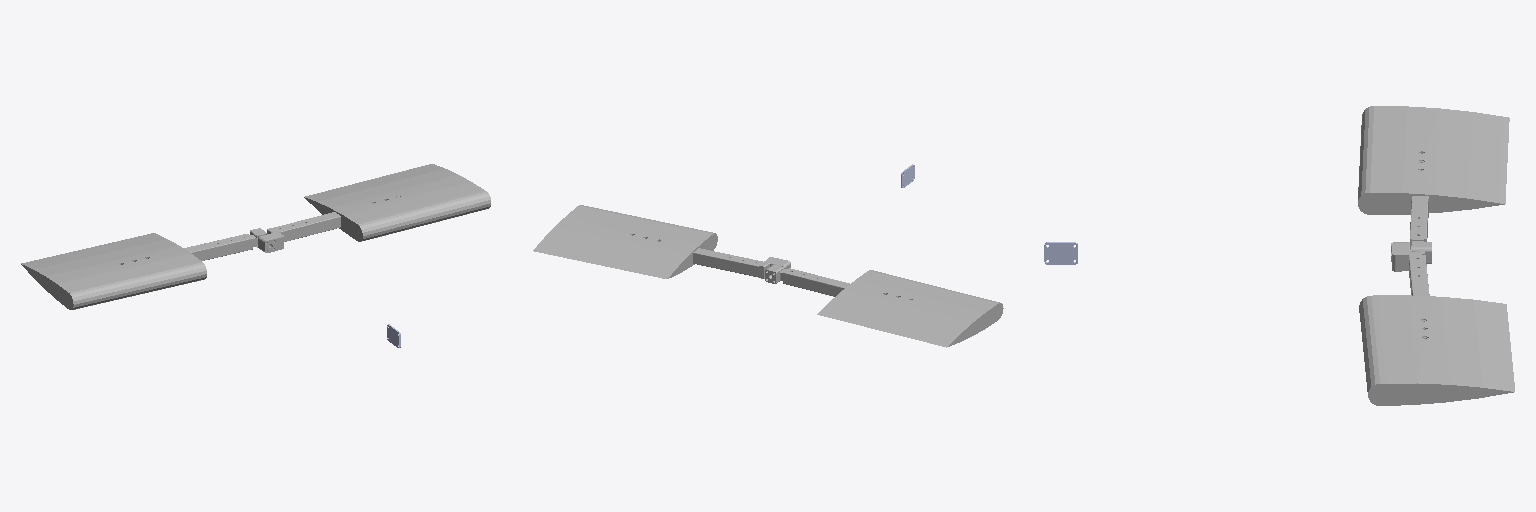
The robot description file, URDF, robot "spm-asm-v6-2":
<?xml version="1.0" encoding="utf-8"?>
<!-- This URDF was automatically created by SolidWorks to URDF Exporter! Originally created by [author] ([email redacted]) 
     Commit Version: 1.6.0-4-g7f85cfe  Build Version: 1.6.7995.38578
     For more information, please see http://wiki.ros.org/sw_urdf_exporter -->
<robot
  name="spm-asm-v6-2">
  <link
    name="body">
    <inertial>
      <origin
        xyz="-0.000447494654153479 0.331321949812791 0.000113603452558181"
        rpy="0 0 0" />
      <mass
        value="1.52483078220958" />
      <inertia
        ixx="0.00829246519516177"
        ixy="-1.02325386659498E-05"
        ixz="-1.46763239266088E-05"
        iyy="0.00411784045329585"
        iyz="1.16891867374721E-05"
        izz="0.00454099279717948" />
    </inertial>
    <visual>
      <origin
        xyz="0 0 0"
        rpy="0 0 0" />
      <geometry>
        <mesh
          filename="../meshes/body.obj" />
      </geometry>
      <material
        name="">
        <color
          rgba="0.752941176470588 0.752941176470588 0.752941176470588 1" />
      </material>
    </visual>
    <collision>
      <origin
        xyz="0 0 0"
        rpy="0 0 0" />
      <geometry>
        <mesh
          filename="../meshes/body.obj" />
      </geometry>
    </collision>
  </link>
  <link
    name="egg">
    <inertial>
      <origin
        xyz="-0.000704379747724138 0.000189398528617443 -0.000359342631638893"
        rpy="0 0 0" />
      <mass
        value="0.547069589420612" />
      <inertia
        ixx="0.00058970882866789"
        ixy="-3.36983548502265E-11"
        ixz="0.000147288742365131"
        iyy="0.00078676358354829"
        iyz="2.54054054923086E-11"
        izz="0.000367447759294177" />
    </inertial>
    <visual>
      <origin
        xyz="0 0 0"
        rpy="0 0 0" />
      <geometry>
        <mesh
          filename="../meshes/egg.obj" />
      </geometry>
      <material
        name="">
        <color
          rgba="0.752941176470588 0.752941176470588 0.752941176470588 1" />
      </material>
    </visual>
    <collision>
      <origin
        xyz="0 0 0"
        rpy="0 0 0" />
      <geometry>
        <mesh
          filename="../meshes/egg.obj" />
      </geometry>
    </collision>
  </link>
  <joint
    name="egg"
    type="continuous">
    <origin
      xyz="0 0.329999999999998 0"
      rpy="-0.00420723995770047 0.477191572872437 -1.5727286634525" />
    <parent
      link="body" />
    <child
      link="egg" />
    <axis
      xyz="0 1 0" />
    <limit
      lower="-1.309"
      upper="1.309"
      effort="0.02"
      velocity="3.927" />
  </joint>
  <link
    name="left">
    <inertial>
      <origin
        xyz="0.141367161453231 0.00171132316628048 -0.014590850978999"
        rpy="0 0 0" />
      <mass
        value="0.200066504276197" />
      <inertia
        ixx="0.000134612037974116"
        ixy="-2.5790330046864E-06"
        ixz="4.07586793565832E-05"
        iyy="0.000409569178120027"
        iyz="6.01341515016151E-08"
        izz="0.000525220739609295" />
    </inertial>
    <visual>
      <origin
        xyz="0 0 0"
        rpy="0 -0.075 0" />
      <geometry>
        <mesh
          filename="../meshes/left.obj" />
      </geometry>
      <material
        name="">
        <color
          rgba="0.752941176470588 0.752941176470588 0.752941176470588 1" />
      </material>
    </visual>
    <collision>
      <origin
        xyz="0 0 0"
        rpy="0 0 0" />
      <geometry>
        <mesh
          filename="../meshes/left.obj" />
      </geometry>
    </collision>
  </link>
  <joint
    name="left"
    type="continuous">
    <origin
      xyz="0 0 0"
      rpy="-0.475749659218756 0 1.61943985488628" />
    <parent
      link="egg" />
    <child
      link="left" />
    <axis
      xyz="0 1 0" />
    <limit
      lower="-0.7854"
      upper="0.7854"
      effort="0.2"
      velocity="1" />
  </joint>
  <link
    name="right">
    <inertial>
      <origin
        xyz="0.141695531960741 -0.00358600947070542 -0.0074884373073913"
        rpy="0 0 0" />
      <mass
        value="0.194771332746872" />
      <inertia
        ixx="0.000130632084466426"
        ixy="4.73968118262733E-07"
        ixz="2.10122124731785E-05"
        iyy="0.000408641338136673"
        iyz="1.79083527905633E-07"
        izz="0.000526701570510772" />
    </inertial>
    <visual>
      <origin
        xyz="0 0 0"
        rpy="0 -0.04 0" />
      <geometry>
        <mesh
          filename="../meshes/right.obj" />
      </geometry>
      <material
        name="">
        <color
          rgba="0.752941176470588 0.752941176470588 0.752941176470588 1" />
      </material>
    </visual>
    <collision>
      <origin
        xyz="0 0 0"
        rpy="0 0 0" />
      <geometry>
        <mesh
          filename="../meshes/right.obj" />
      </geometry>
    </collision>
  </link>
  <joint
    name="right"
    type="continuous">
    <origin
      xyz="0 -0.000499993016276486 0"
      rpy="0.473964872692399 0 -1.59386125890353" />
    <parent
      link="egg" />
    <child
      link="right" />
    <axis
      xyz="0 1 0" />
    <limit
      lower="-0.7854"
      upper="0.7854"
      effort="0.2"
      velocity="1" />
  </joint>
  <link
    name="IMU">
    <inertial>
      <origin
        xyz="-0.000799994413222308 2.98978479086753E-06 0"
        rpy="0 0 0" />
      <mass
        value="0.000677984" />
      <inertia
        ixx="5.05346817122322E-08"
        ixy="-6.35206498663212E-11"
        ixz="-3.35265884718929E-26"
        iyy="3.35383228376594E-08"
        iyz="-5.90699045829493E-24"
        izz="1.7286106833904E-08" />
    </inertial>
    <visual>
      <origin
        xyz="0 0 0"
        rpy="0 0 0" />
      <geometry>
        <mesh
          filename="../meshes/IMU.obj" />
      </geometry>
      <material
        name="">
        <color
          rgba="0.792156862745098 0.819607843137255 0.933333333333333 1" />
      </material>
    </visual>
    <collision>
      <origin
        xyz="0 0 0"
        rpy="0 0 0" />
      <geometry>
        <mesh
          filename="../meshes/IMU.obj" />
      </geometry>
    </collision>
  </link>
  <joint
    name="IMU"
    type="fixed">
    <origin
      xyz="0.000799994413223405 0.0691941882985599 0"
      rpy="1.5707963267949 0 0" />
    <parent
      link="body" />
    <child
      link="IMU" />
    <axis
      xyz="0 0 0" />
  </joint>
</robot>

--- Render facts (derived) ---
3 views of the same robot in one strip: view 1: azimuth 30°, elevation 25°; view 2: azimuth 150°, elevation 25°; view 3: azimuth 270°, elevation 25° (orthographic).
Robot: spm-asm-v6-2 — 5 links, 4 joints (3 continuous, 1 fixed); root link body; default pose: all joints at 0.
Visible links, largest first — view 1: left, right; view 2: right, left; view 3: left, right, IMU.
Link boxes in pixels (left/top/right/bottom): left: left=258, top=164, right=490, bottom=252; right: left=21, top=228, right=266, bottom=309; right: left=765, top=264, right=1003, bottom=347; left: left=533, top=205, right=790, bottom=278; left: left=1359, top=242, right=1514, bottom=405; right: left=1358, top=106, right=1509, bottom=263; IMU: left=1044, top=242, right=1077, bottom=264.
Size in the robot's own frame: 0.4846 by 0.3507 by 0.0211 metres.
Meshes: 5 distinct files referenced, 3 mesh visuals loaded (3 OBJ); not drawn: 2 (reference not matched to a file when rendering).
